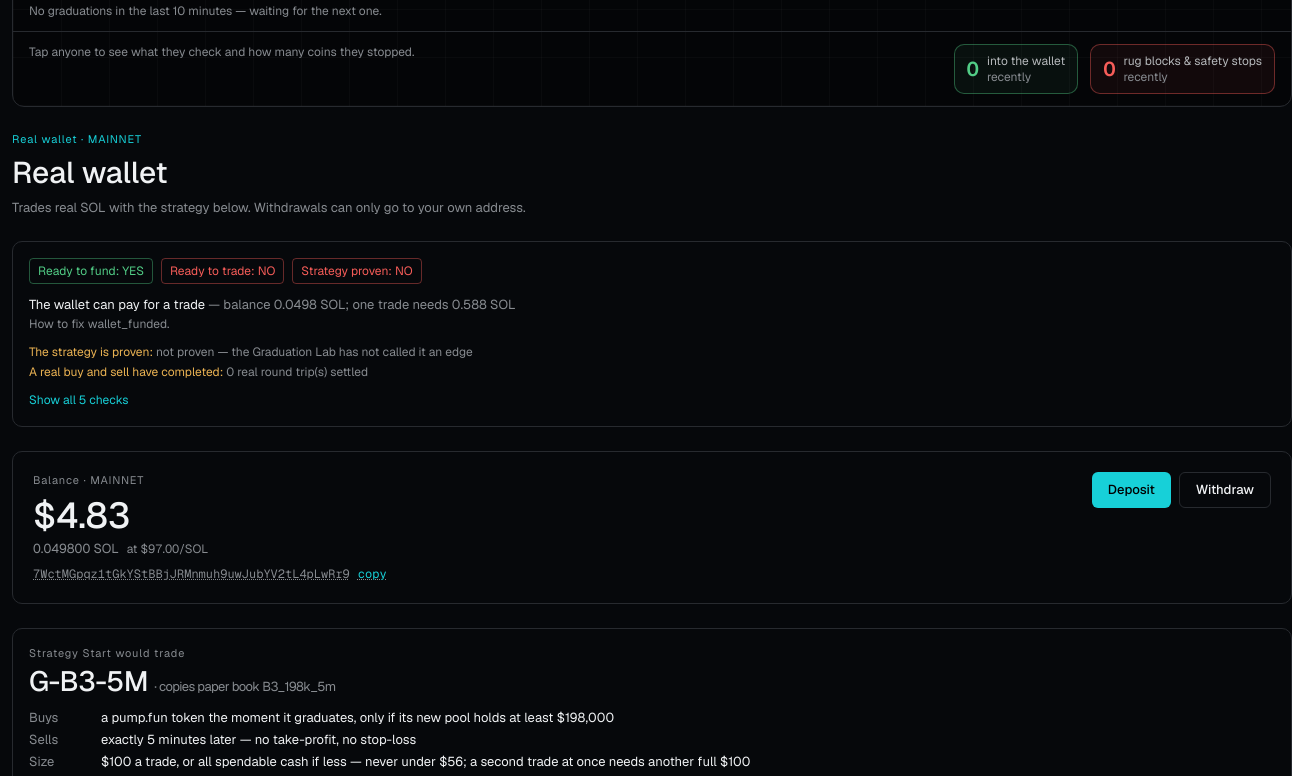
Test case: RealWalletPage readiness › puts the whole checklist one tap away
(page scrolled)
Expected: the button "7WctMGpqz1tGkYStBBjJRMnmuh9uwJubYV2tL4pLwRr9" is shown, x1=33 y1=566 x2=387 y2=582
Click the button "Show all 5 checks" at (79, 400), box x1=29 y1=392 x2=128 y2=408
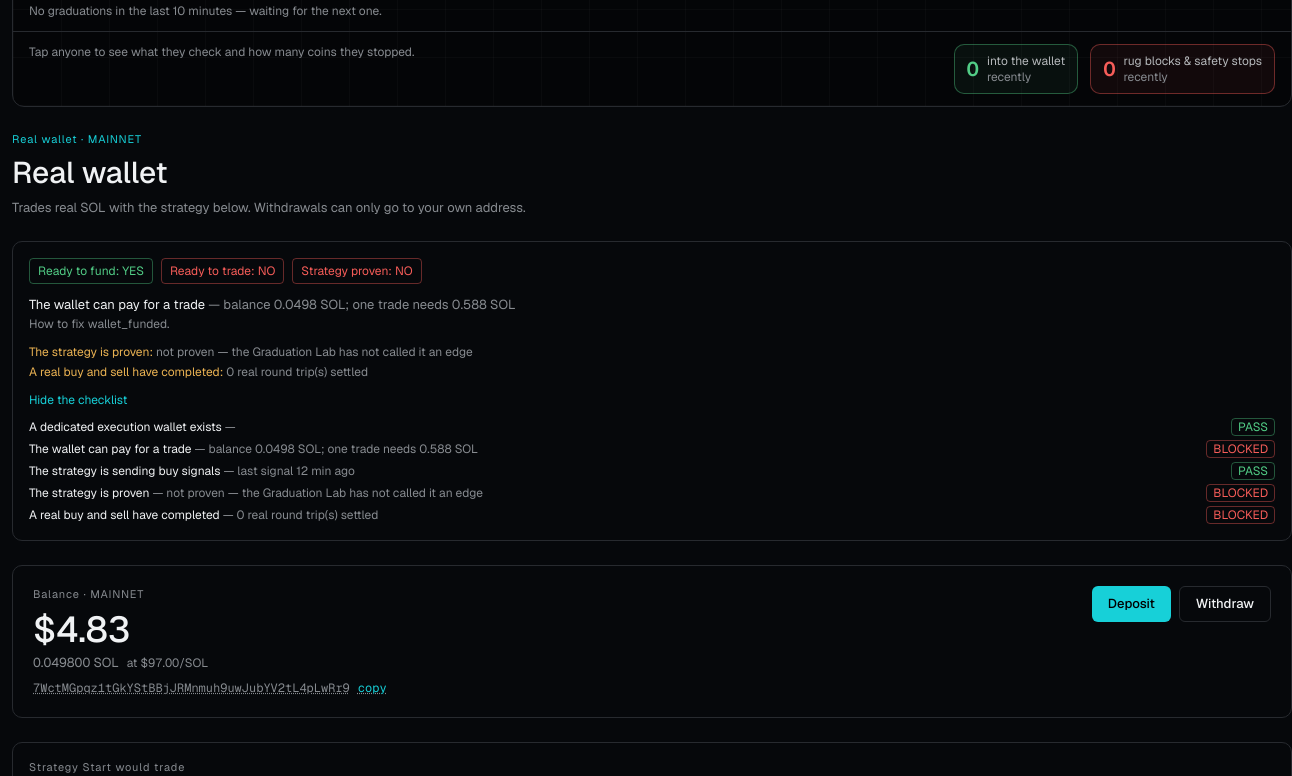
Expected: the text "A dedicated execution wallet exists" is shown, x1=29 y1=418 x2=222 y2=434
